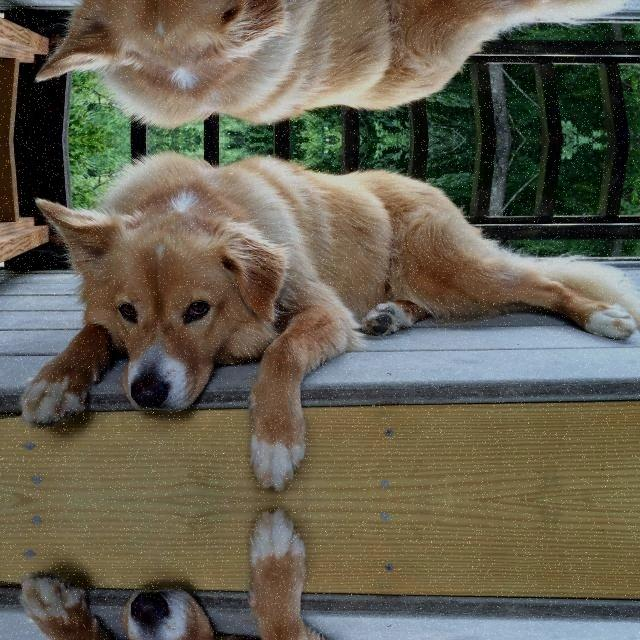dog: (15, 146, 611, 464), (15, 0, 611, 134), (15, 536, 611, 640)
